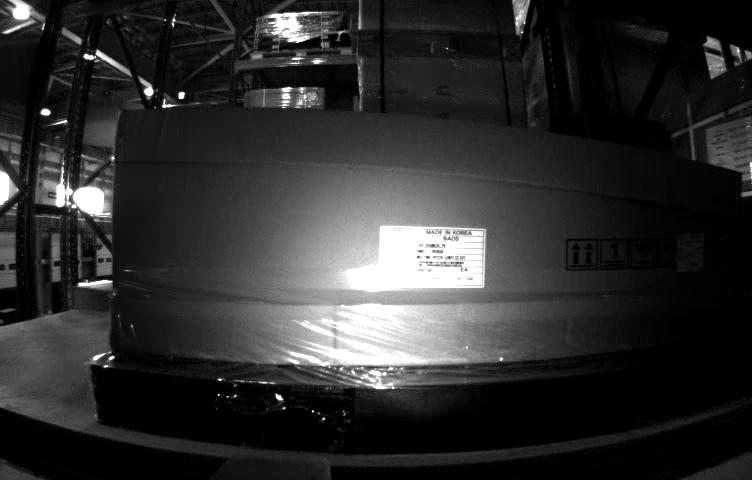True Barcode: (672, 231, 706, 272)
